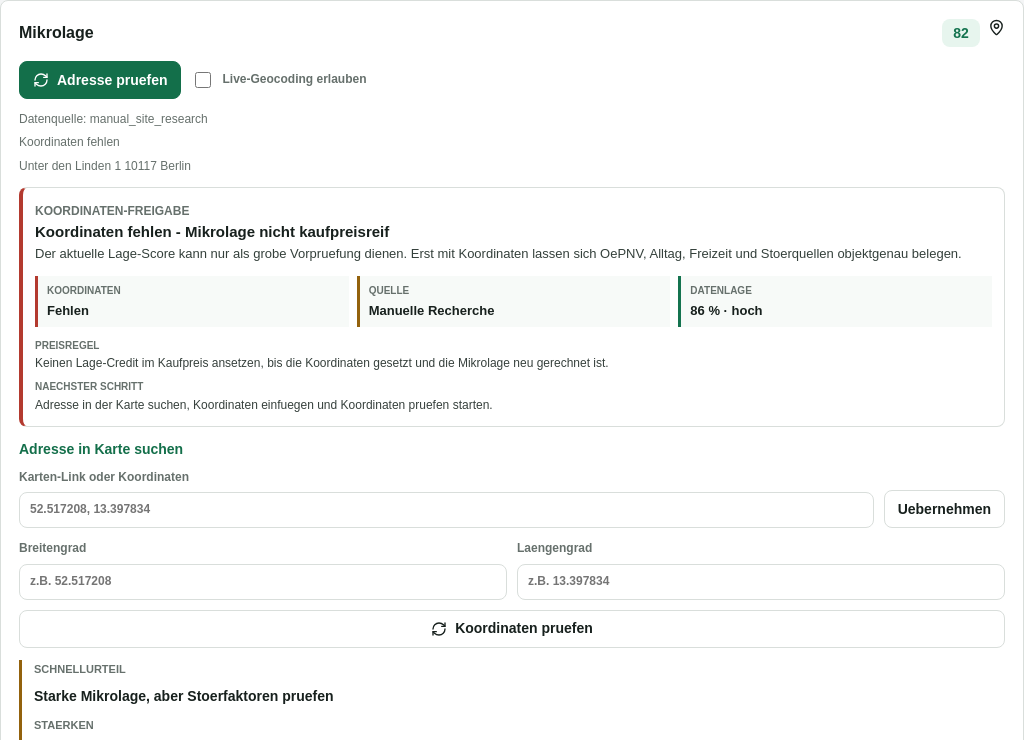
Test case: DealMicroLocationPanel › fills coordinates from a pasted map link and offers an address search link
Type "https://www.openstreetmap.org/?mlat=52.517208&mlon=13.397834#map=18/52.517208/13.397834" into the field labelled "Karten-Link oder Koordinaten".
click(446, 510); type("https://www.openstreetmap.org/?mlat=52.517208&mlon=13.397834#map=18/52.517208/13.397834")  # box [19,492,874,528]
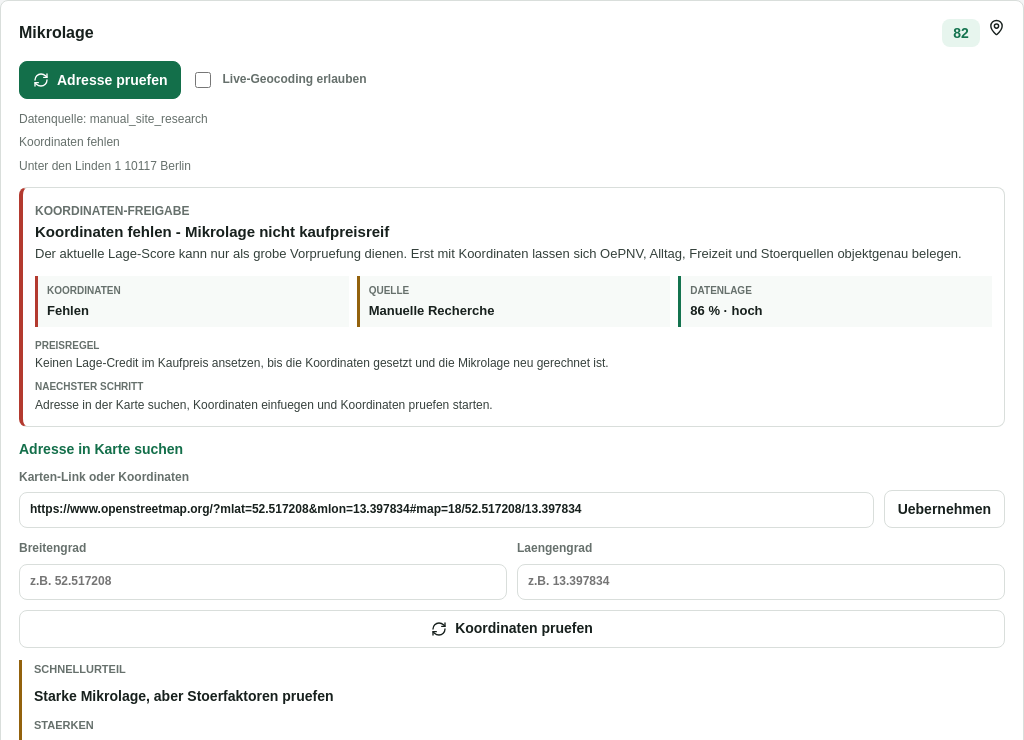
Click the button "Uebernehmen".
click(944, 509)  # box [884,490,1005,528]
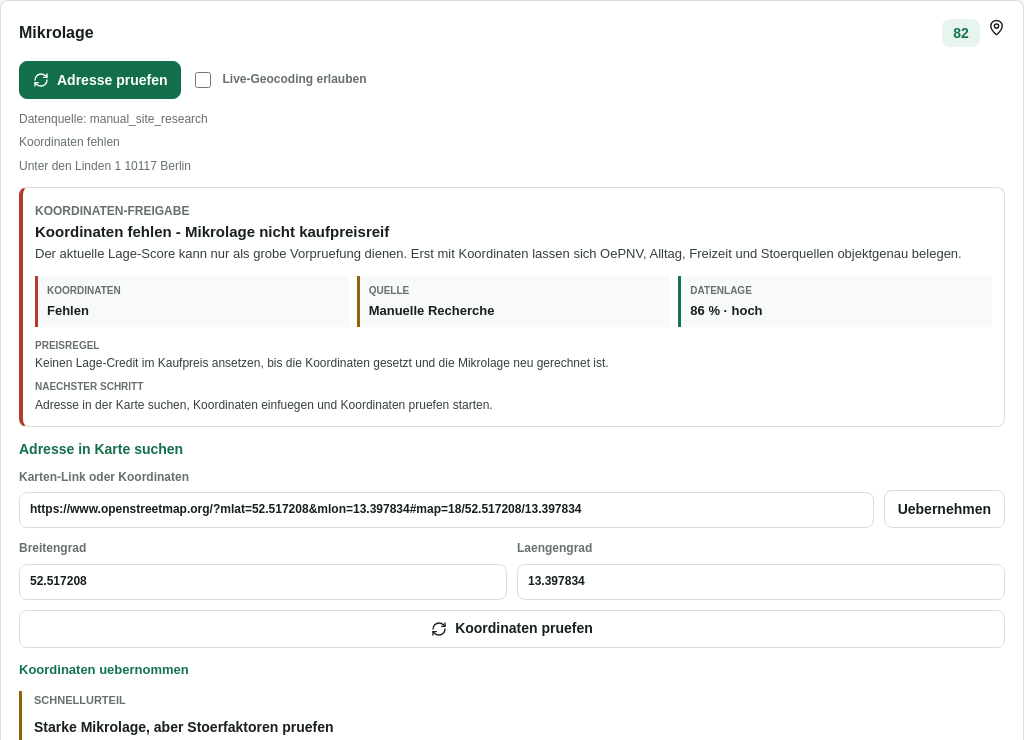
Expected: the field labelled "Breitengrad" holds "52.517208", [19,564,507,600]
Expected: the field labelled "Laengengrad" holds "13.397834", [517,564,1005,600]
